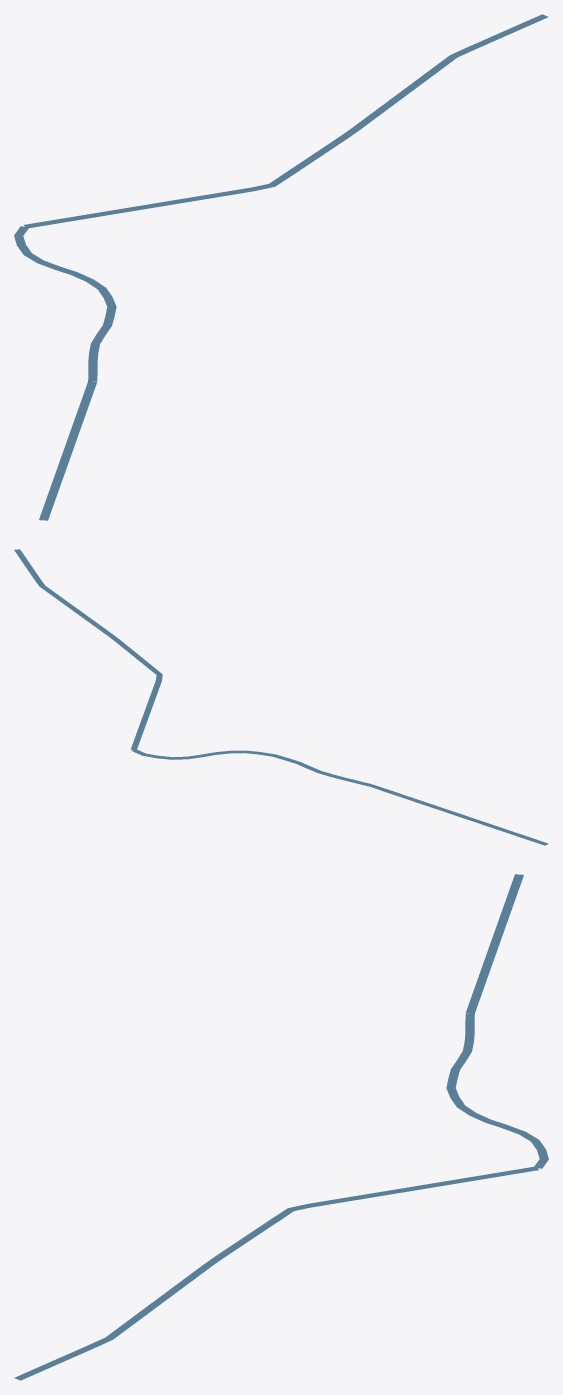
File: c_1639_17835_water.glb
3 renders of one model, top to bottom at view 1: azimuth 90°, elevation 25°; view 2: azimuth 150°, elevation 25°; view 3: azimuth 270°, elevation 25°, orthographic. The views are drawn at different scales.
Parts seen in each view (by area): view 1: geometry_0; view 2: geometry_0; view 3: geometry_0.
Boxes of the visible parts, box(x1,y1,x2,y2) form: geometry_0: box(14, 14, 548, 520); geometry_0: box(14, 549, 548, 845); geometry_0: box(14, 874, 548, 1380).
Bounding box in the file's own units: 322 × 0 × 144.
